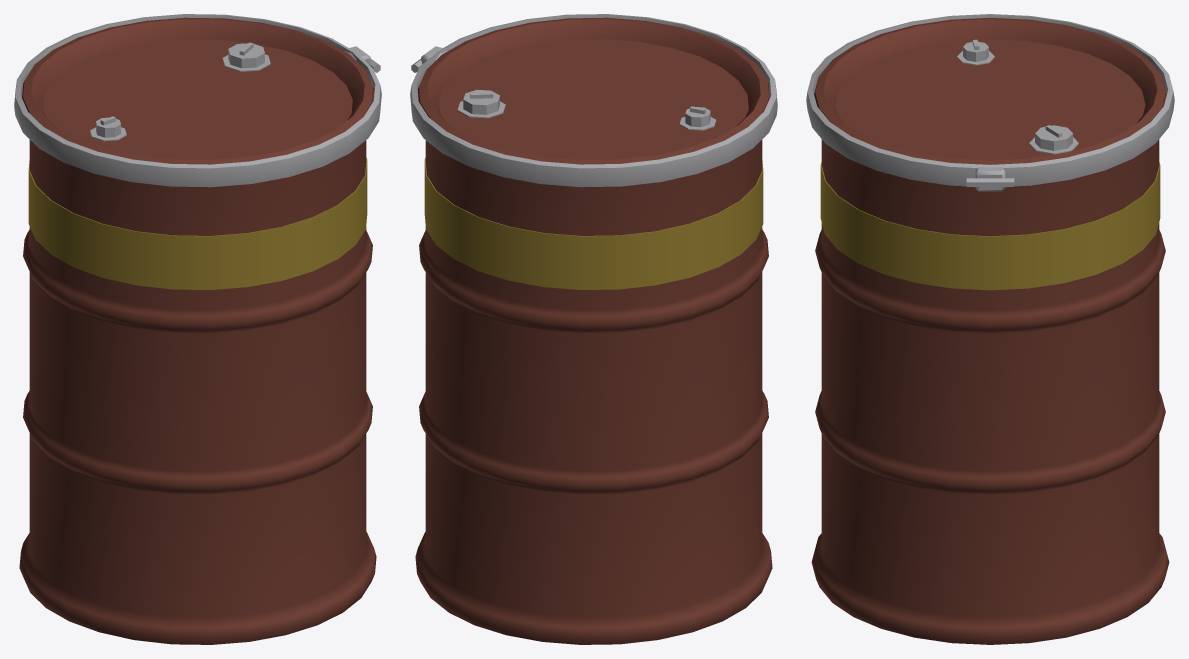
Rendered from kit_barrel.glb.
3 views of the same model, side by side, from view 1: azimuth 30°, elevation 25°; view 2: azimuth 150°, elevation 25°; view 3: azimuth 270°, elevation 25° (orthographic).
Parts seen in each view (by area): view 1: kit_barrel_paint, kit_barrel_band_paint, kit_barrel_metal; view 2: kit_barrel_paint, kit_barrel_band_paint, kit_barrel_metal; view 3: kit_barrel_paint, kit_barrel_band_paint, kit_barrel_metal.
Part boxes in pixels (<box>): kit_barrel_paint: <box>19,17,376,644</box>; kit_barrel_band_paint: <box>28,157,367,289</box>; kit_barrel_metal: <box>14,14,381,187</box>; kit_barrel_paint: <box>415,17,772,644</box>; kit_barrel_band_paint: <box>424,157,763,289</box>; kit_barrel_metal: <box>410,14,777,187</box>; kit_barrel_paint: <box>811,17,1169,644</box>; kit_barrel_band_paint: <box>820,162,1160,290</box>; kit_barrel_metal: <box>806,14,1174,191</box>.
Bounding box in the file's own units: 0.6439 × 0.9 × 0.622.
